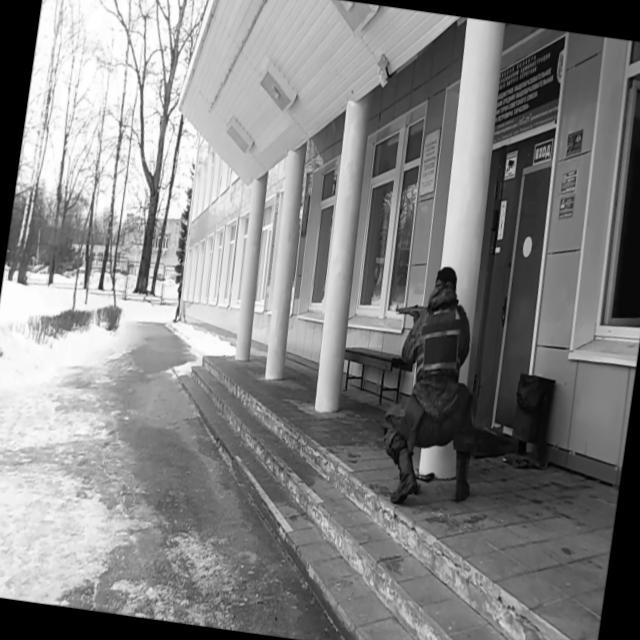gun: (394, 299, 429, 323)
person with a gun: (369, 258, 502, 514)
